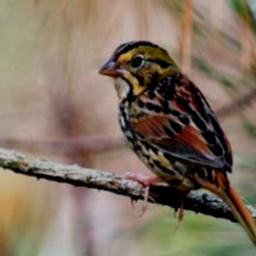Sparrow: (96, 38, 256, 254)
